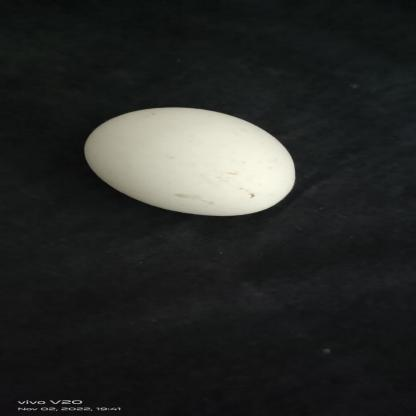egg: (81, 105, 301, 217)
